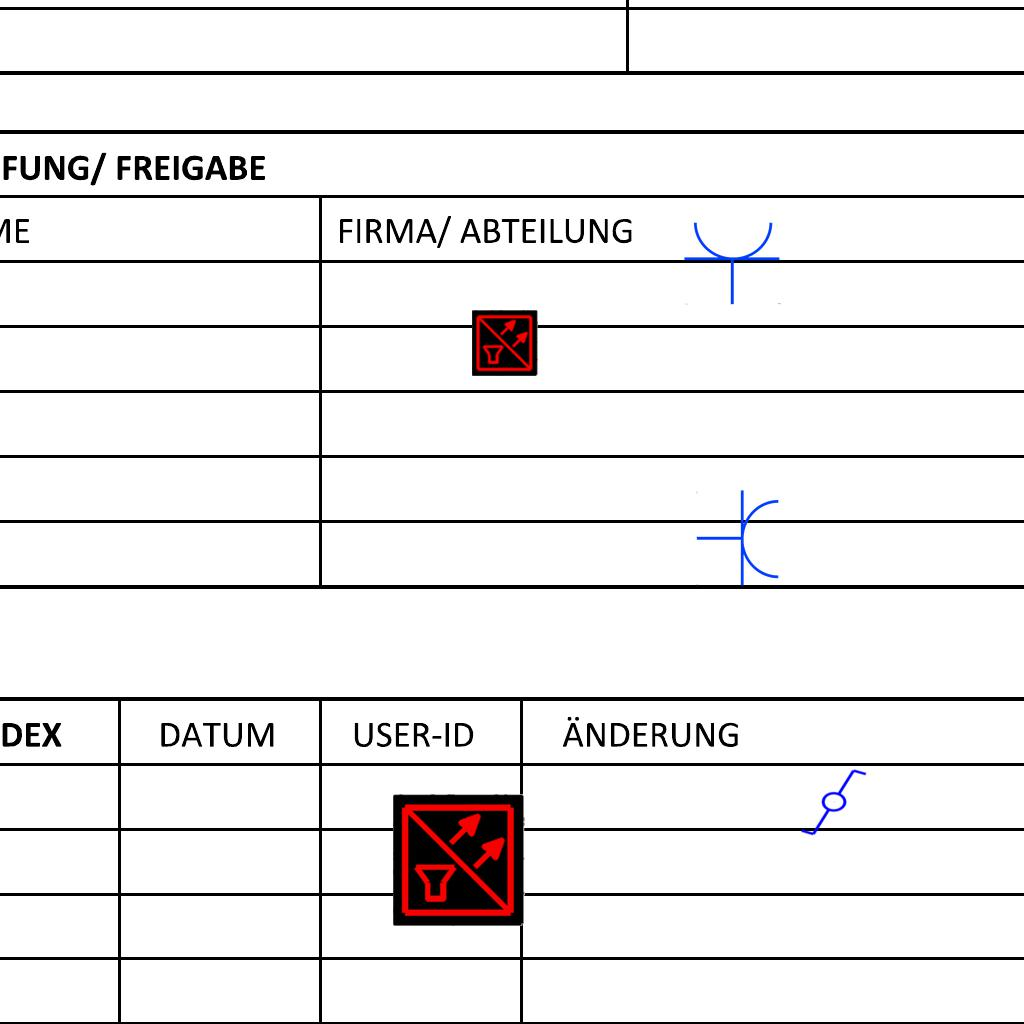OKW_Multisensormelder_(Kombination_optischer_Rauch-Kahlenmonoxid_Waerme-Melder): (393, 794, 525, 926), (472, 310, 538, 376)
Schukosteckdose_einfach: (696, 489, 783, 589), (683, 218, 783, 305)
Wechselschalter: (799, 767, 877, 839)
